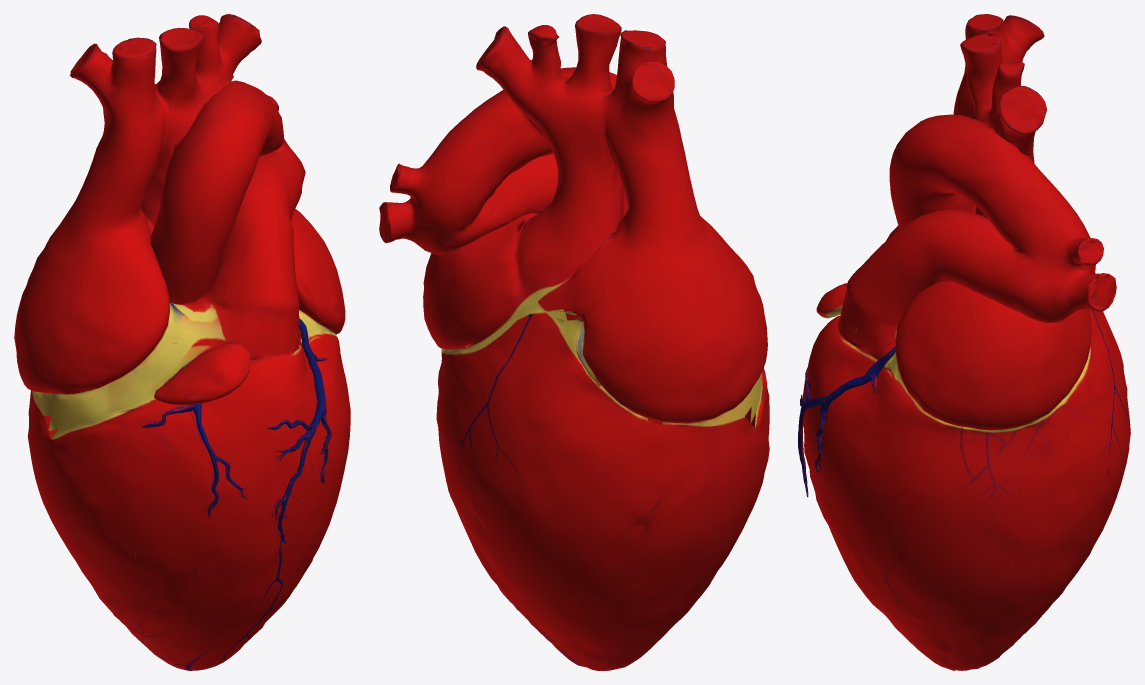
Rendered from heart-anatomy.glb.
The picture shows the model from 3 angles, left to right: view 1: azimuth 30°, elevation 25°; view 2: azimuth 150°, elevation 25°; view 3: azimuth 270°, elevation 25°; orthographic projection. The views are drawn at different scales.
Size of the model in its own units: 0.4873 by 0.9502 by 0.4599.
Materials: 1 (1 with a texture image).
